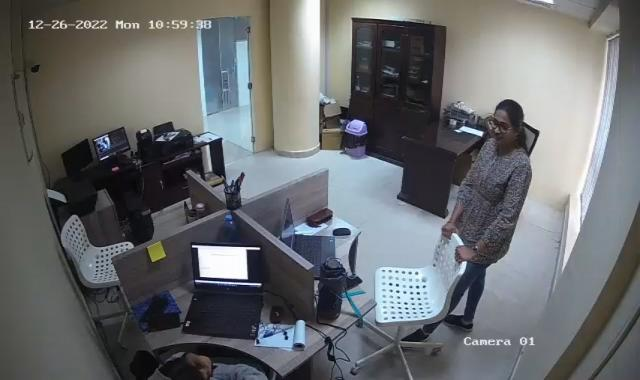no_hairnet: (490, 100, 520, 146), (145, 362, 203, 380)
